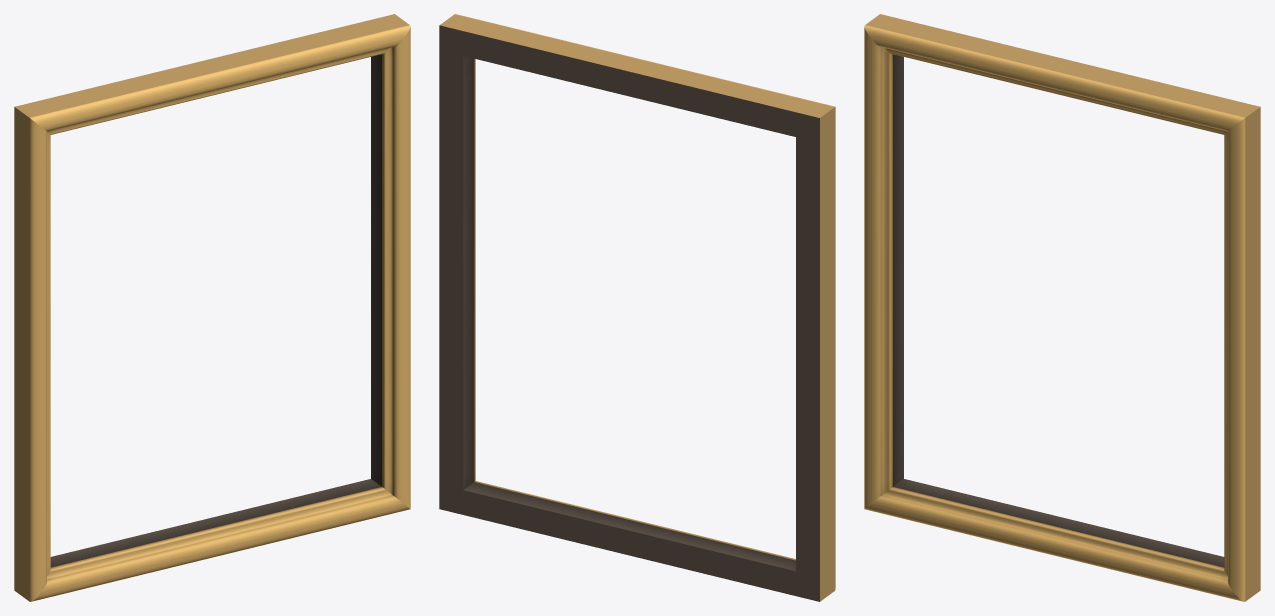
File: 10-krik.glb
3 renders of one model, left to right at view 1: azimuth 30°, elevation 25°; view 2: azimuth 150°, elevation 25°; view 3: azimuth 330°, elevation 25°, orthographic.
Parts seen in each view (by area): view 1: Frame; view 2: Frame; view 3: Frame.
Part boxes in pixels (bbox=[...]): Frame: bbox=[14, 14, 410, 601]; Frame: bbox=[439, 14, 835, 601]; Frame: bbox=[864, 14, 1260, 601].
Bounding box in the file's own units: 0.9022 × 1.1 × 0.0732.
